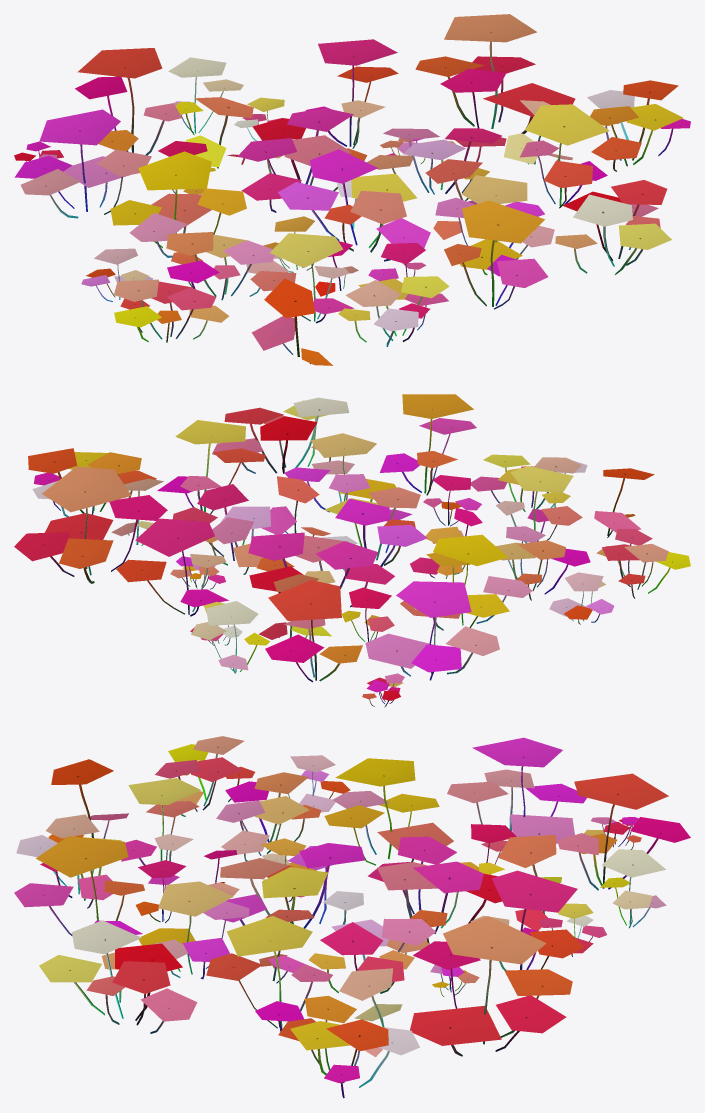
Rendered from Wood_Sorrel_wcwmchzja_Mid_wcwmchzja_VarD_LOD0.fbx.
3 views of the same model, one above another, from view 1: azimuth 30°, elevation 25°; view 2: azimuth 150°, elevation 25°; view 3: azimuth 270°, elevation 25° (orthographic). The views are drawn at different scales.
Parts seen in each view (by area): view 1: _vlp4_VarD_LOD1; view 2: _vlp4_VarD_LOD1; view 3: _vlp4_VarD_LOD1.
Part boxes in pixels (x1=…): _vlp4_VarD_LOD1: x1=14, y1=14, x2=690, y2=365; _vlp4_VarD_LOD1: x1=14, y1=394, x2=690, y2=707; _vlp4_VarD_LOD1: x1=14, y1=736, x2=690, y2=1098.
Bounding box in the file's own units: 43.14 × 6.84 × 37.24.
